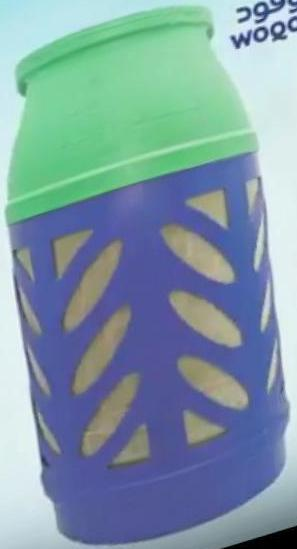cylinder: (0, 1, 297, 549)
